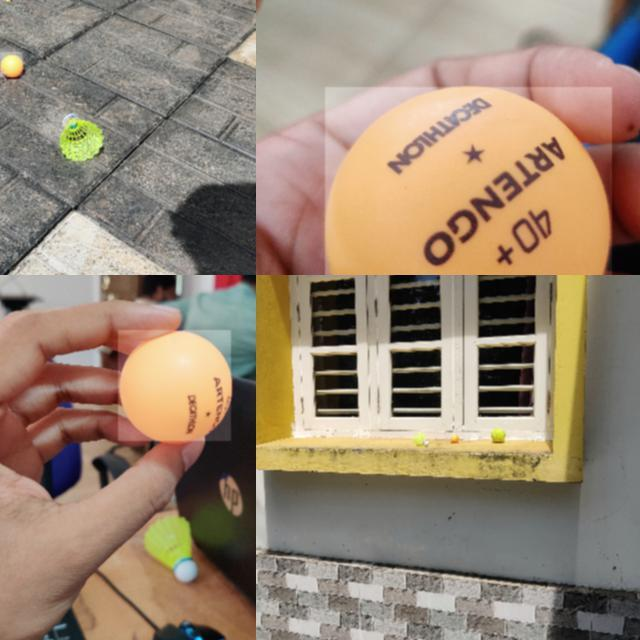ping-pong-ball: (324, 86, 614, 274), (118, 330, 232, 442), (0, 52, 24, 78), (450, 434, 458, 442)
